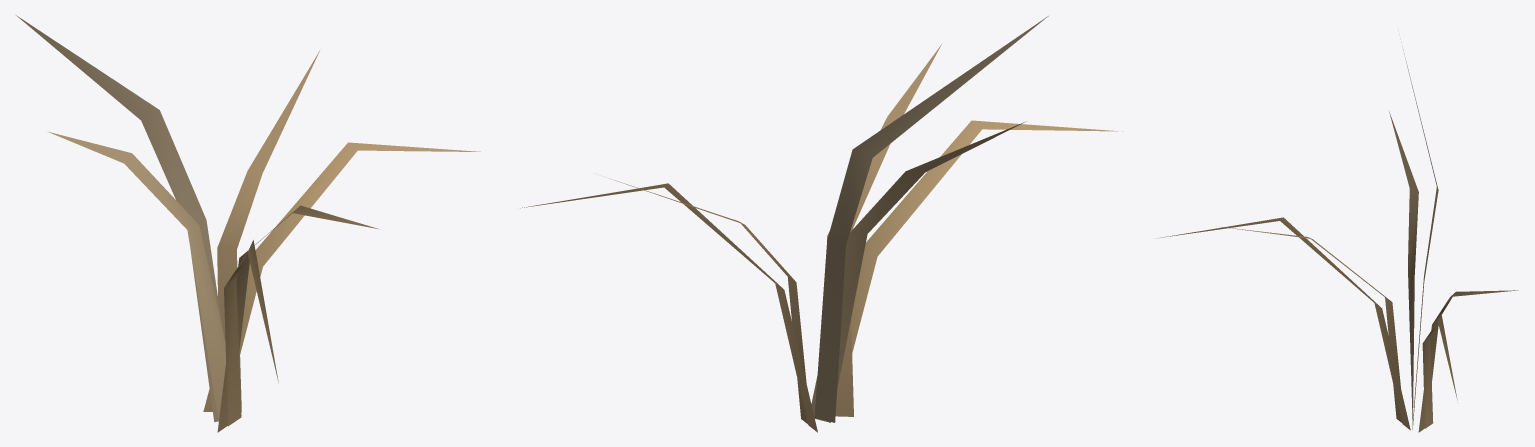
The model's file is Grass_f_OneS_02.fbx.
3 views of the same model, side by side, from view 1: azimuth 30°, elevation 25°; view 2: azimuth 150°, elevation 25°; view 3: azimuth 270°, elevation 25° (orthographic). The views are drawn at different scales.
Parts seen in each view (by area): view 1: Grass_f_OneS_02; view 2: Grass_f_OneS_02; view 3: Grass_f_OneS_02.
Part boxes in pixels (x1,y1,x2,y2): Grass_f_OneS_02: (16,15,480,432); Grass_f_OneS_02: (520,16,1122,432); Grass_f_OneS_02: (1158,46,1518,432).
Bounding box in the file's own units: 47.59 × 41.49 × 41.36.
